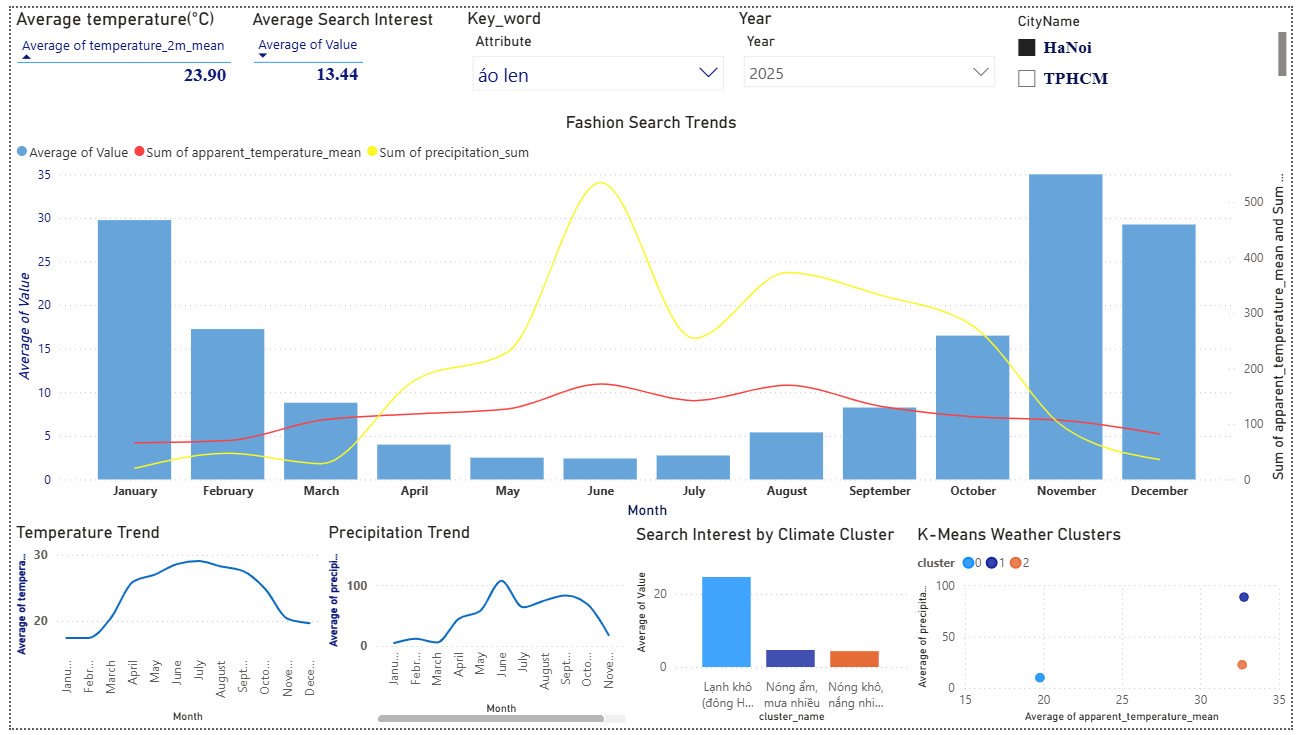

The dashboard page shown, as its layout file describes it:
{"tool":"powerbi","page":{"name":"Overview","canvas":[1280,720],"ordinal":0},"visuals":[{"type":"tableEx","title":"Average temperature(°C)","fields":{"Values":["Avg(clean_data.temperature_2m_mean)"]},"box":[0,0,293.8,87.5],"z":0},{"type":"tableEx","title":"Average Search Interest","fields":{"Values":["Avg(clean_data.Value)"]},"box":[236.2,1.2,240,86.2],"z":1000},{"type":"lineClusteredColumnComboChart","title":"\tFashion Search Trends","fields":{"Y":["Avg(clean_data.Value)"],"Y2":["Sum(clean_data.apparent_temperature_mean)","Sum(clean_data.precipitation_sum)"],"Category":["clean_data.date.Variation.Date Hierarchy.Year","clean_data.date.Variation.Date Hierarchy.Month"]},"box":[0,104.3,1280,411.4],"z":2000},{"type":"slicer","fields":{"Values":["clean_data.CityName"]},"box":[993.8,0,286.2,85],"z":3000},{"type":"slicer","title":"Key_word","fields":{"Values":["clean_data.Attribute"]},"box":[451.2,0,271.2,93.8],"z":4000},{"type":"lineChart","title":"Temperature Trend","fields":{"Category":["clean_data.date.Variation.Date Hierarchy.Month"],"Y":["Avg(clean_data.temperature_2m_mean)"]},"box":[0,513.8,312.5,206.2],"z":5000},{"type":"lineChart","title":"Precipitation Trend","fields":{"Category":["clean_data.date.Variation.Date Hierarchy.Month"],"Y":["Avg(clean_data.precipitation_sum)"]},"box":[312.5,513.8,307.5,206.2],"z":6000},{"type":"scatterChart","title":"K-Means Weather Clusters","fields":{"X":["Avg(clean_data.apparent_temperature_mean)"],"Y":["Avg(clean_data.precipitation_sum)"],"Series":["cluster_labels.cluster"],"Category":["cluster_labels.date.Variation.Date Hierarchy.Year","cluster_labels.date.Variation.Date Hierarchy.Quarter","cluster_labels.date.Variation.Date Hierarchy.Month","cluster_labels.date.Variation.Date Hierarchy.Day","cluster_labels.CityName"]},"box":[901.2,516.2,378.8,203.8],"z":7000},{"type":"clusteredColumnChart","title":"Search Interest by Climate Cluster","fields":{"Category":["cluster_labels.cluster_name"],"Y":["Avg(clean_data.Value)"]},"box":[620,516.2,281.2,203.8],"z":8000},{"type":"slicer","title":"Year","fields":{"Values":["clean_data.date.Variation.Date Hierarchy.Year"]},"box":[722.5,0,271.2,93.8],"z":9000}]}

Visuals, with their boxes in screenshot pixels (x1, y1, x2, y2), scaled from the page's 1280x720 canvas onto the 1300x735 screenshot:
"Average temperature(°C)" tableEx: rect(0, 0, 298, 89)
"Average Search Interest" tableEx: rect(240, 1, 484, 89)
"	Fashion Search Trends" lineClusteredColumnComboChart: rect(0, 106, 1299, 526)
slicer - clean_data.CityName: rect(1009, 0, 1299, 87)
"Key_word" slicer: rect(458, 0, 734, 96)
"Temperature Trend" lineChart: rect(0, 525, 317, 734)
"Precipitation Trend" lineChart: rect(317, 525, 630, 734)
"K-Means Weather Clusters" scatterChart: rect(915, 527, 1299, 734)
"Search Interest by Climate Cluster" clusteredColumnChart: rect(630, 527, 915, 734)
"Year" slicer: rect(734, 0, 1009, 96)
